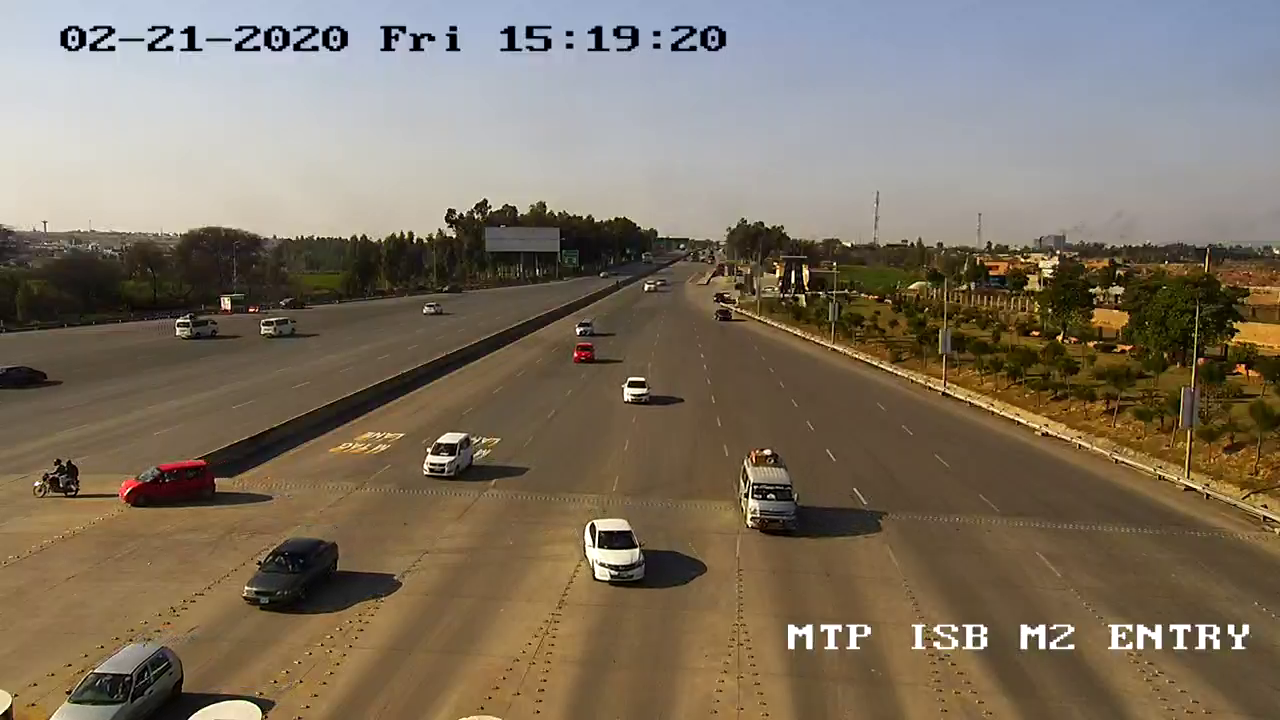f1: (232, 529, 350, 617), (577, 511, 655, 589), (419, 429, 483, 486), (616, 369, 656, 412)
f2: (730, 443, 817, 546)
